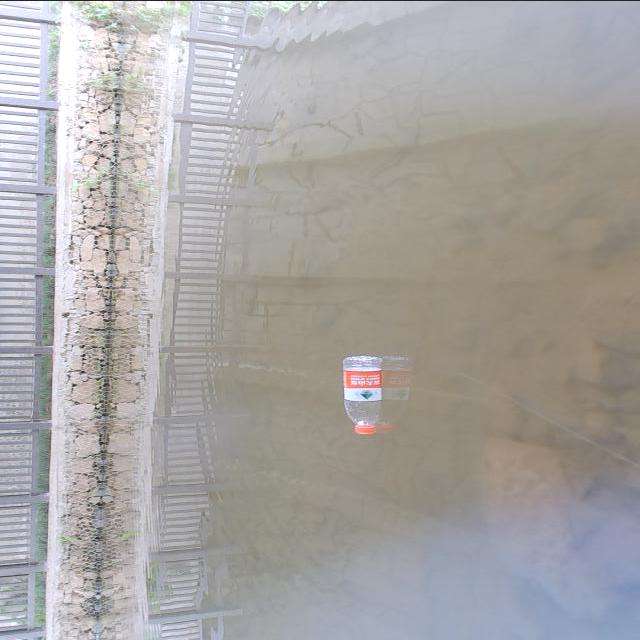bottle: (316, 338, 411, 456)
